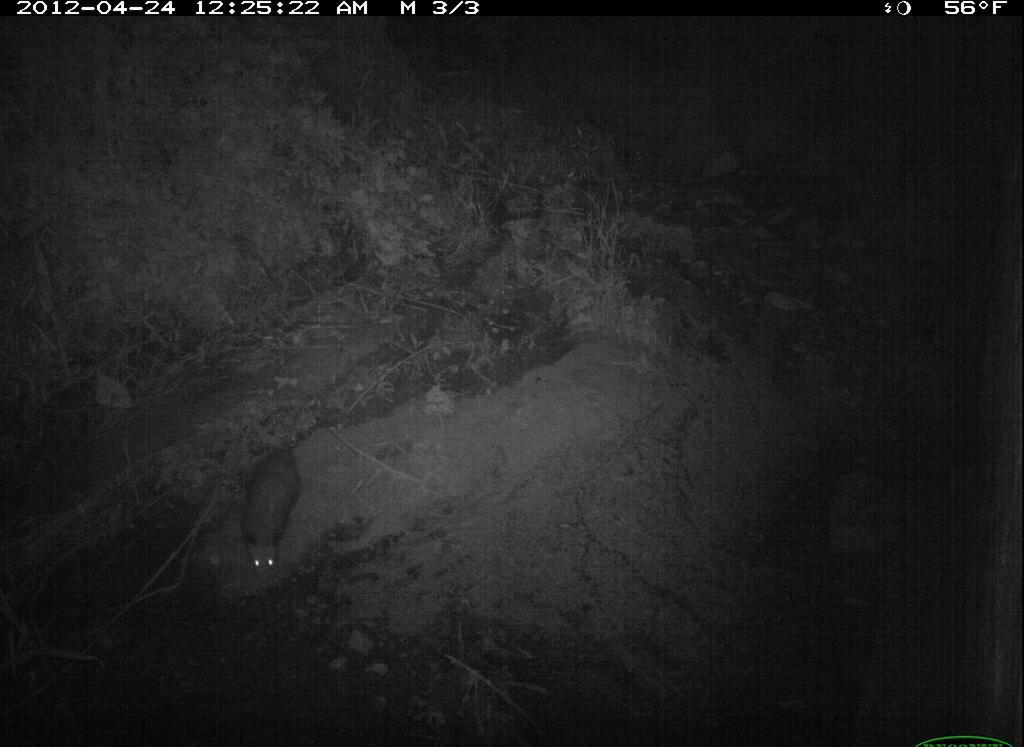opossum: (230, 431, 305, 589)
